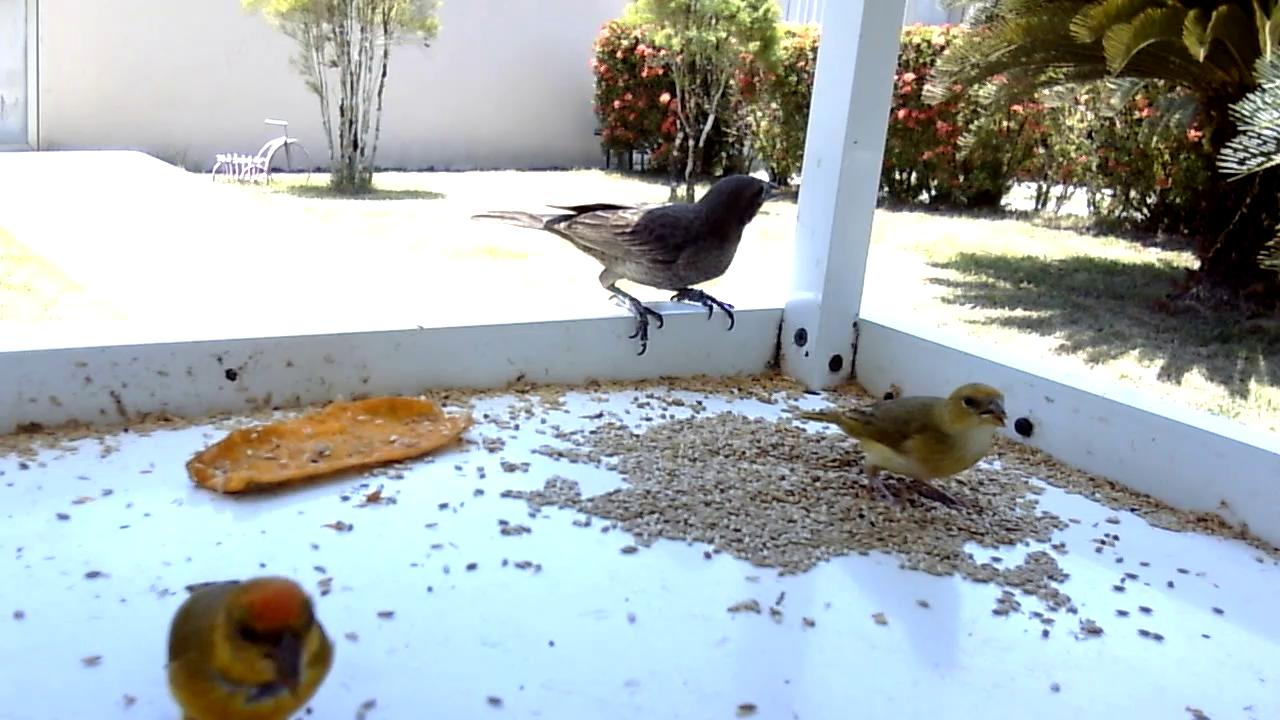canario_do_amazonas: (798, 382, 1012, 506), (165, 571, 338, 720)
chupim: (470, 173, 785, 359)
